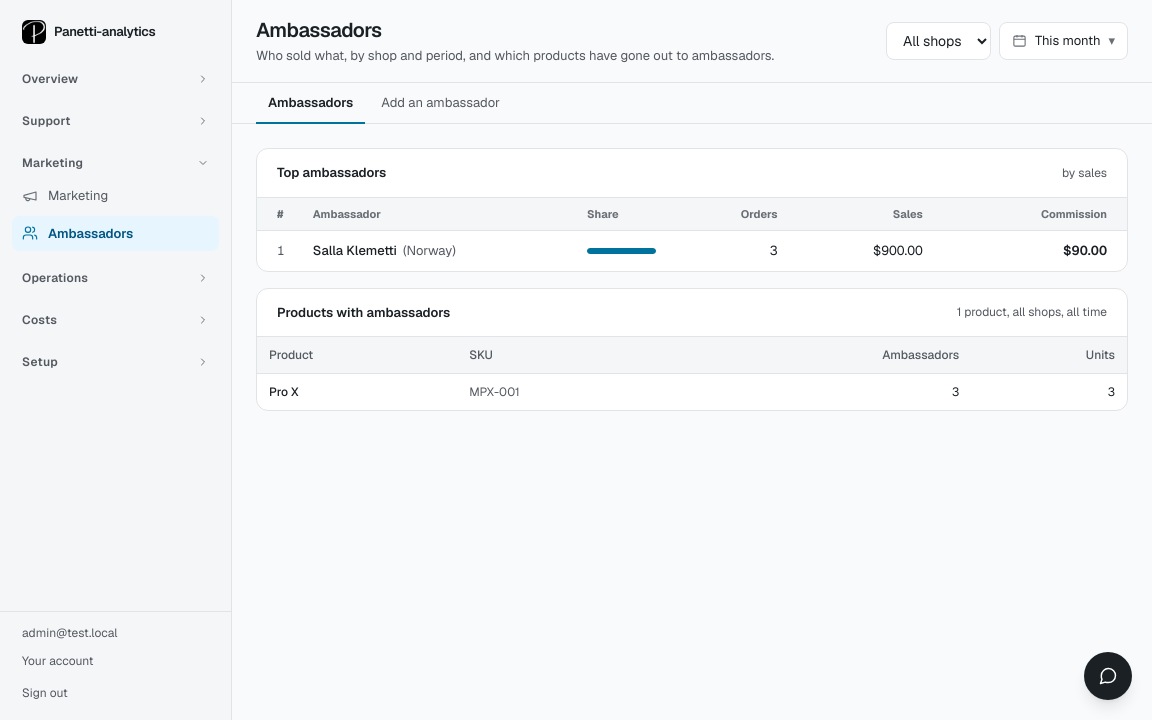
it: the Ambassadors tab › lets the team pick exact dates, and asks the statistics for exactly those days
Expected: the text "Salla Klemetti" is shown, [313,242,397,259]
Click the button with aria-label "Date range".
click(1064, 41)  # box [999,22,1128,60]
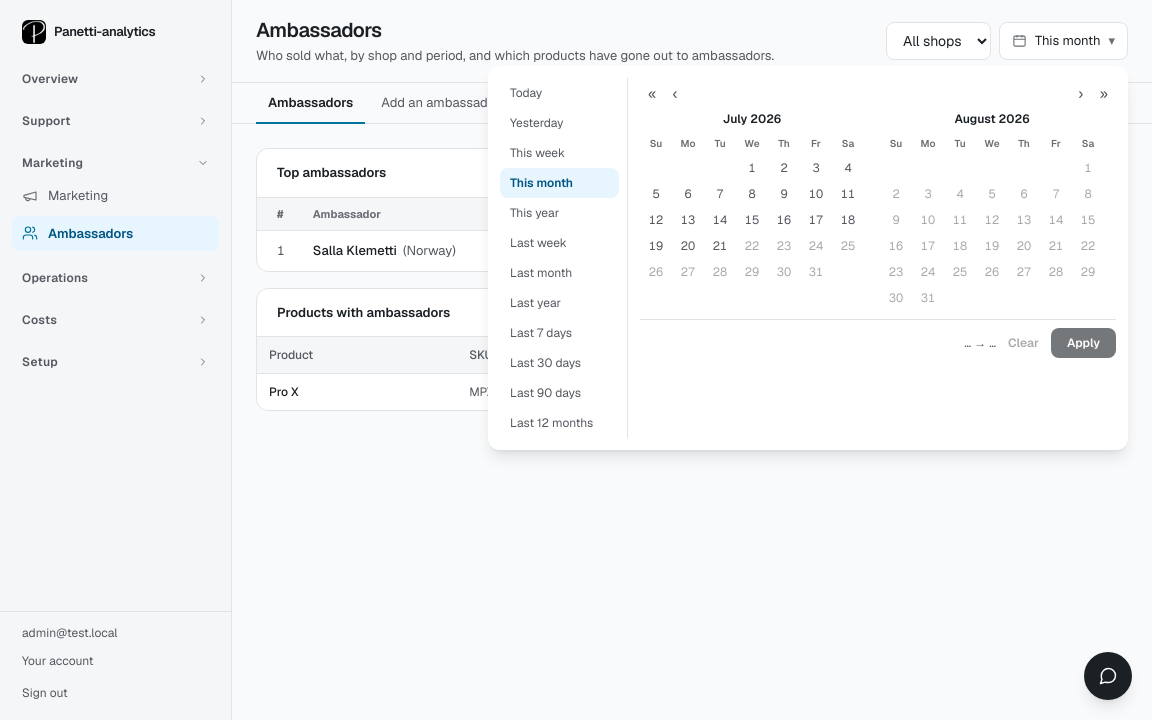
Click the button named "2026-07-03".
click(816, 168)  # box [800,154,832,180]
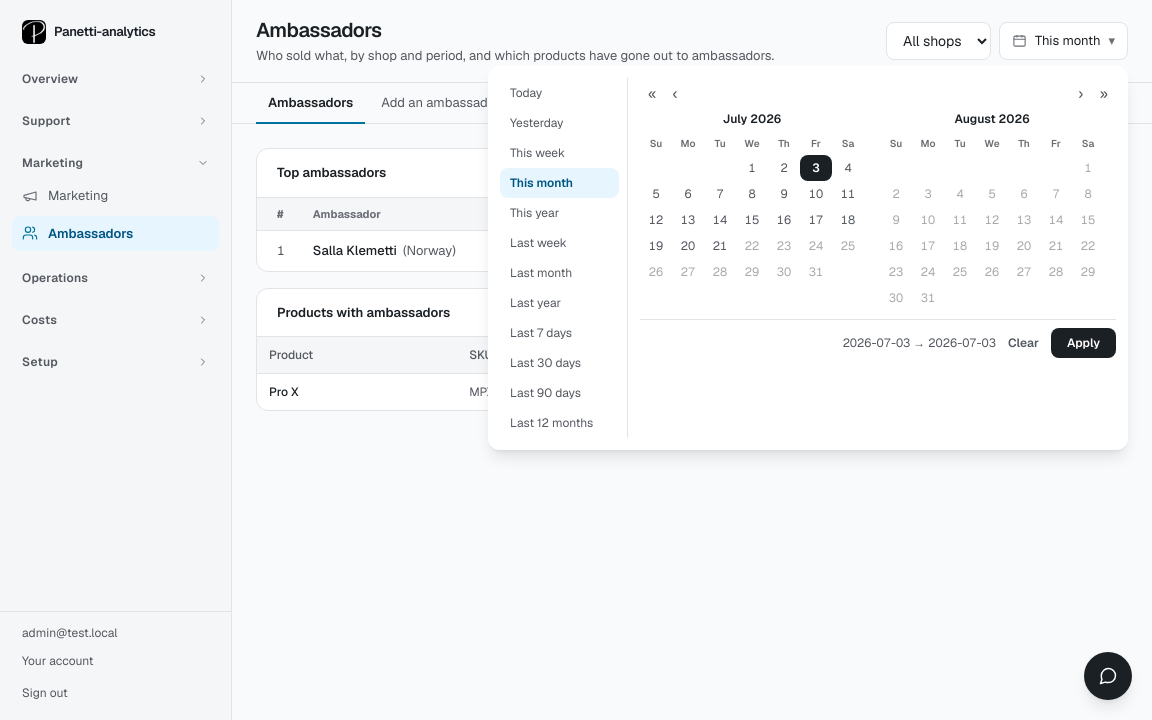
Click the button named "2026-07-17".
click(816, 220)  # box [800,206,832,232]
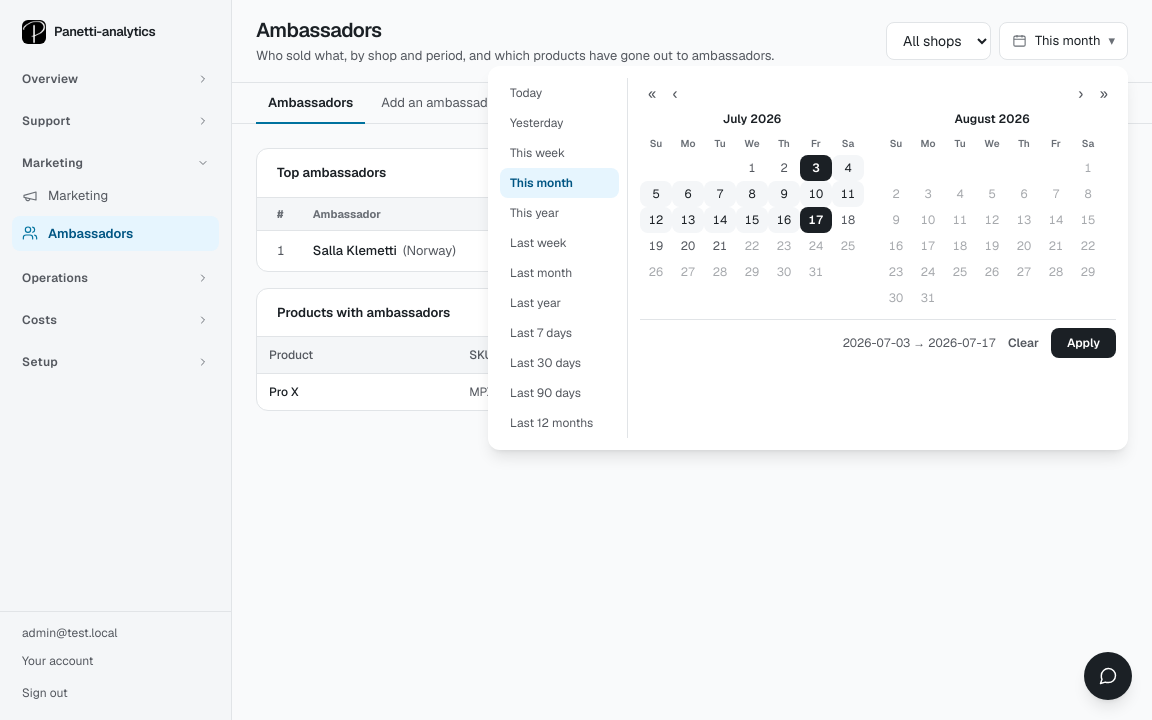
Click the button "Apply".
click(1084, 342)  # box [1051,328,1116,358]
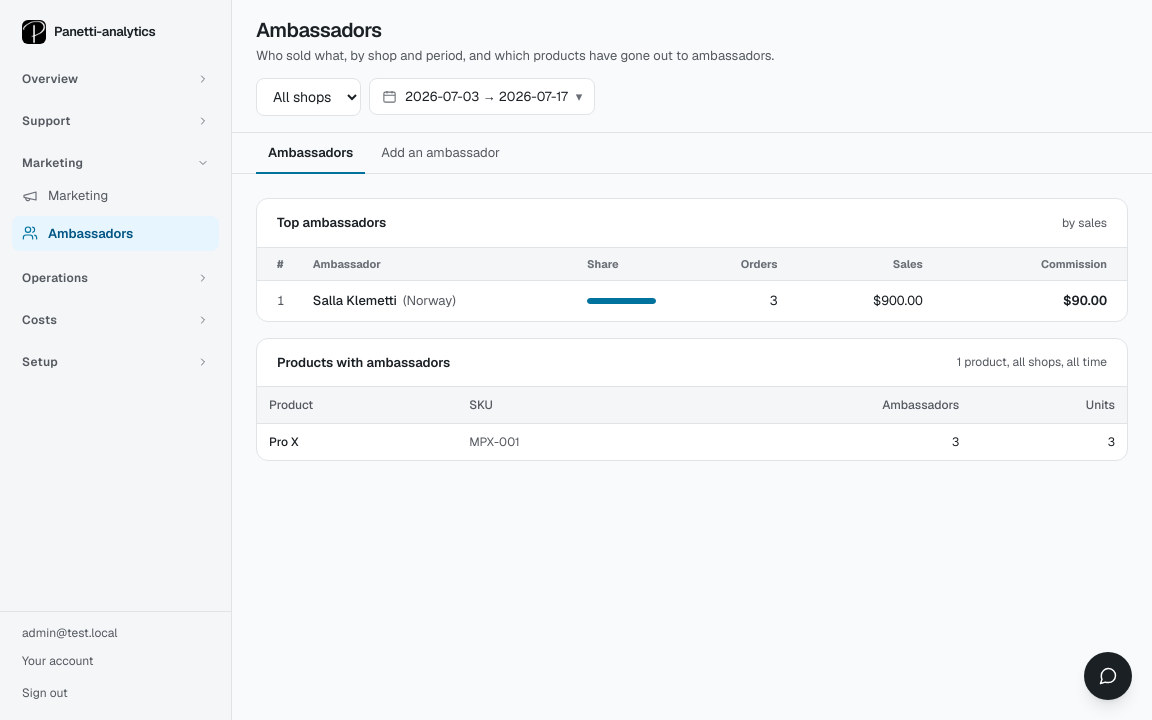
Result: the button named "Date range" shows "2026-07-03 → 2026-07-17" at [369,78,595,115]
